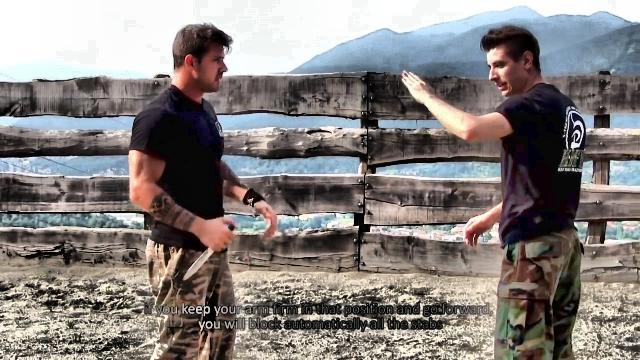knife: (178, 220, 240, 284)
